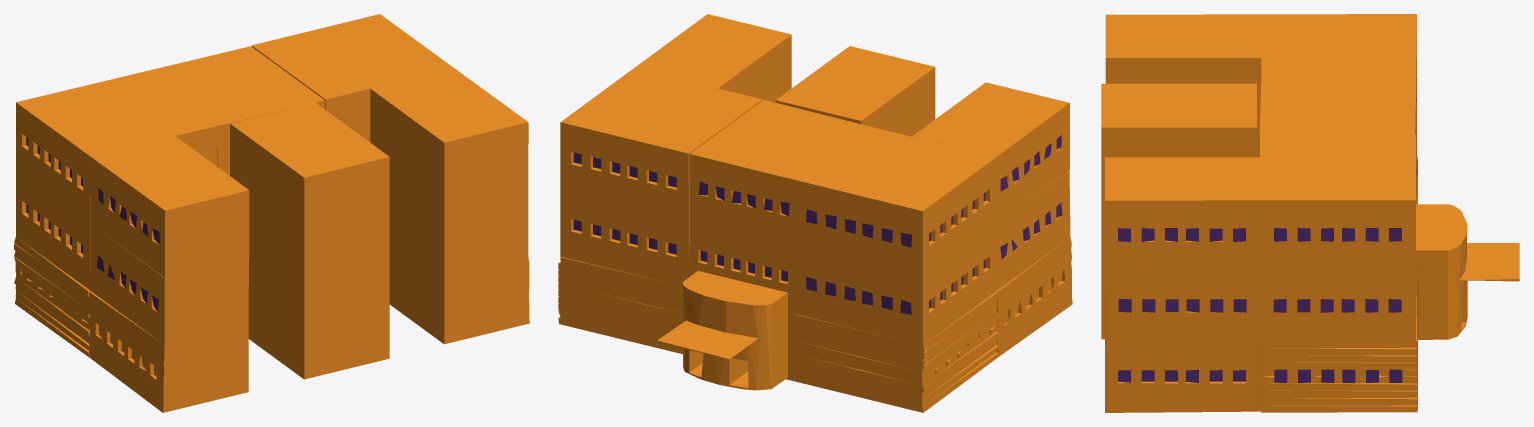
File: Urząd miejski kilinskiegoV2.fbx
3 renders of one model, left to right at view 1: azimuth 30°, elevation 25°; view 2: azimuth 150°, elevation 25°; view 3: azimuth 270°, elevation 25°, orthographic. The views are drawn at different scales.
Parts seen in each view (by area): view 1: Urzad_miejski_kilinskiego; view 2: Urzad_miejski_kilinskiego; view 3: Urzad_miejski_kilinskiego.
Boxes of the visible parts, x1,y1,x2,y2 form: Urzad_miejski_kilinskiego: (14, 14, 529, 412); Urzad_miejski_kilinskiego: (558, 14, 1072, 412); Urzad_miejski_kilinskiego: (1101, 14, 1519, 412).
Size of the model in its own units: 40.65 by 21.43 by 38.21.
1 material, 1 textured.
